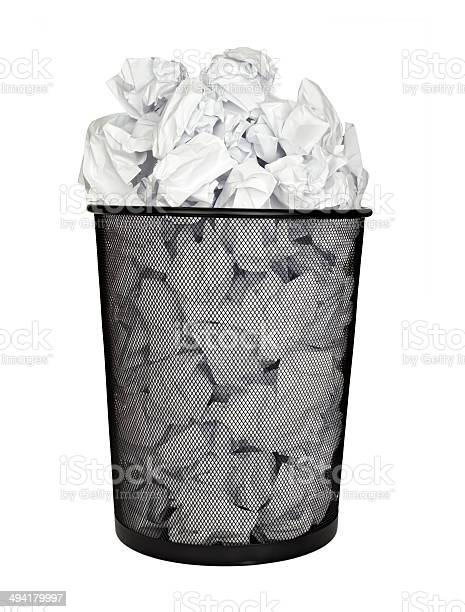paper: (271, 50, 429, 195), (257, 126, 424, 261), (200, 130, 311, 275), (147, 61, 274, 185), (63, 26, 200, 126), (44, 92, 160, 206), (178, 11, 304, 115), (132, 108, 239, 219), (233, 69, 298, 176)
